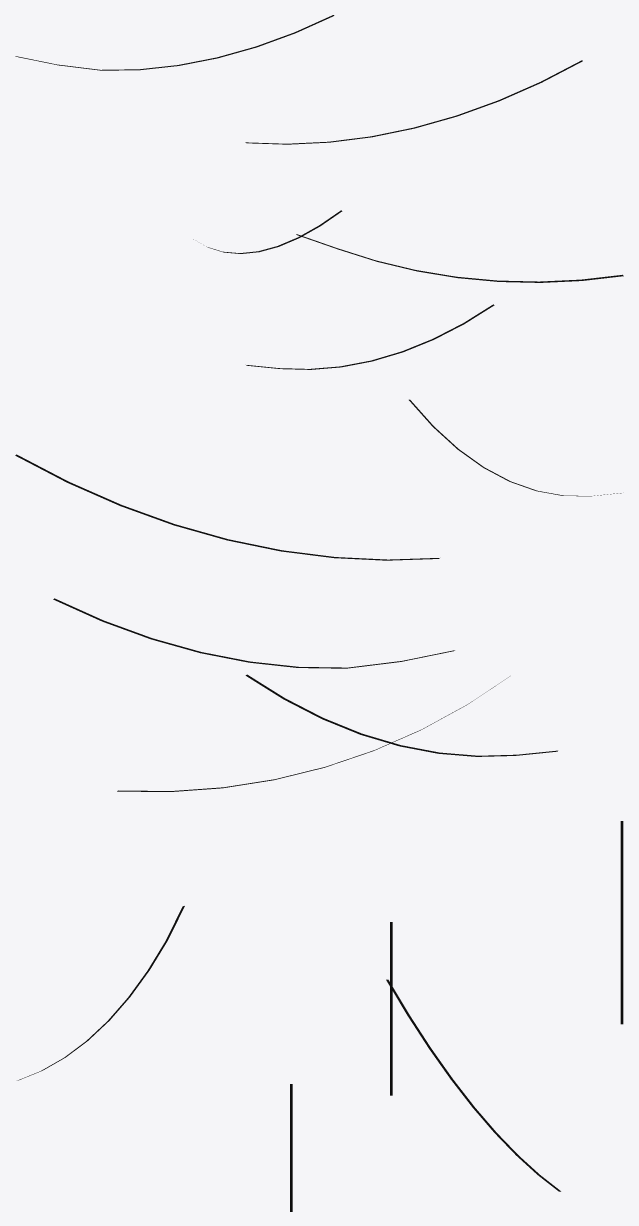
File: M7Z1_Wires02.glb
3 renders of one model, top to bottom at view 1: azimuth 30°, elevation 25°; view 2: azimuth 150°, elevation 25°; view 3: azimuth 270°, elevation 25°, orthographic. The views are drawn at different scales.
Parts seen in each view (by area): view 1: M7Z1_WIRES02; view 2: M7Z1_WIRES02; view 3: M7Z1_WIRES02.
Boxes of the visible parts, box(x1,y1,x2,y2) form: M7Z1_WIRES02: box(15, 15, 623, 369); M7Z1_WIRES02: box(15, 399, 621, 791); M7Z1_WIRES02: box(17, 821, 623, 1211).
Bounding box in the file's own units: 14.91 × 7.43 × 16.3.
Materials: 1 (1 with a texture image).
